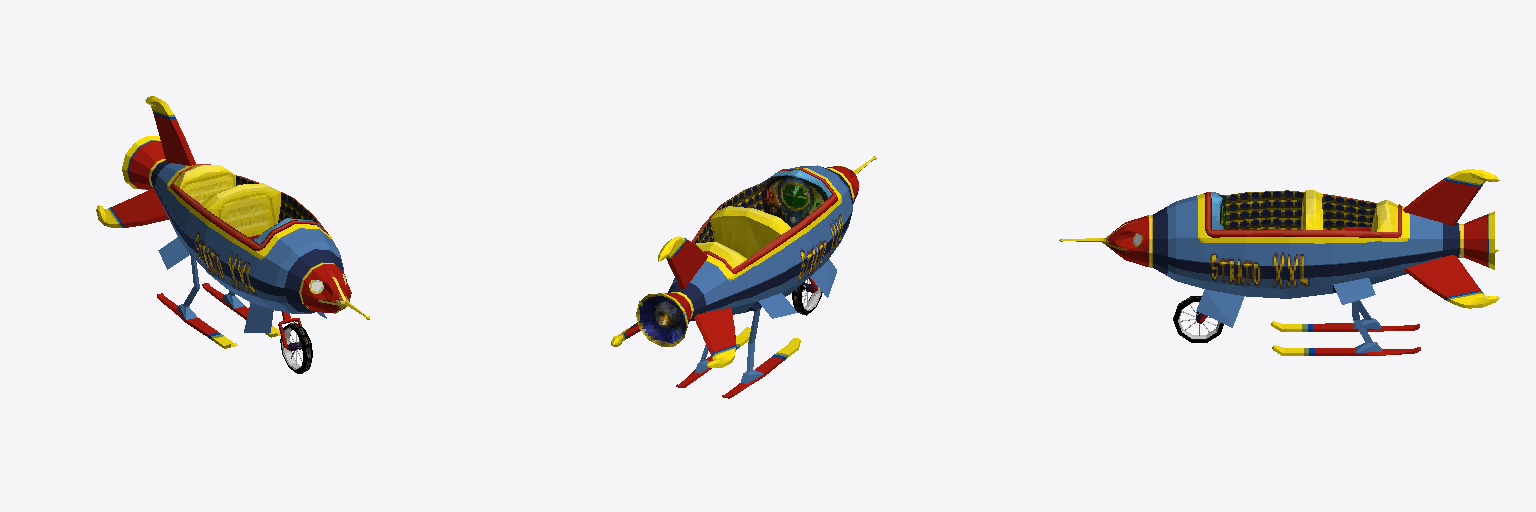
3 renders of one model, left to right at view 1: azimuth 30°, elevation 25°; view 2: azimuth 150°, elevation 25°; view 3: azimuth 270°, elevation 25°, orthographic.
Visible parts, largest first — view 1: strato_main__u2, wheel__u2; view 2: strato_main__u2, wheel__u2; view 3: strato_main__u2, wheel__u2.
Boxes of the visible parts, x1,y1,x2,y2 form: strato_main__u2: [96, 96, 369, 350]; wheel__u2: [280, 322, 312, 373]; strato_main__u2: [611, 156, 876, 398]; wheel__u2: [792, 280, 822, 315]; strato_main__u2: [1059, 169, 1499, 355]; wheel__u2: [1173, 296, 1223, 342].
Size of the model in its own units: 1.06 by 1.49 by 3.42.
Materials: 2 (2 with a texture image).